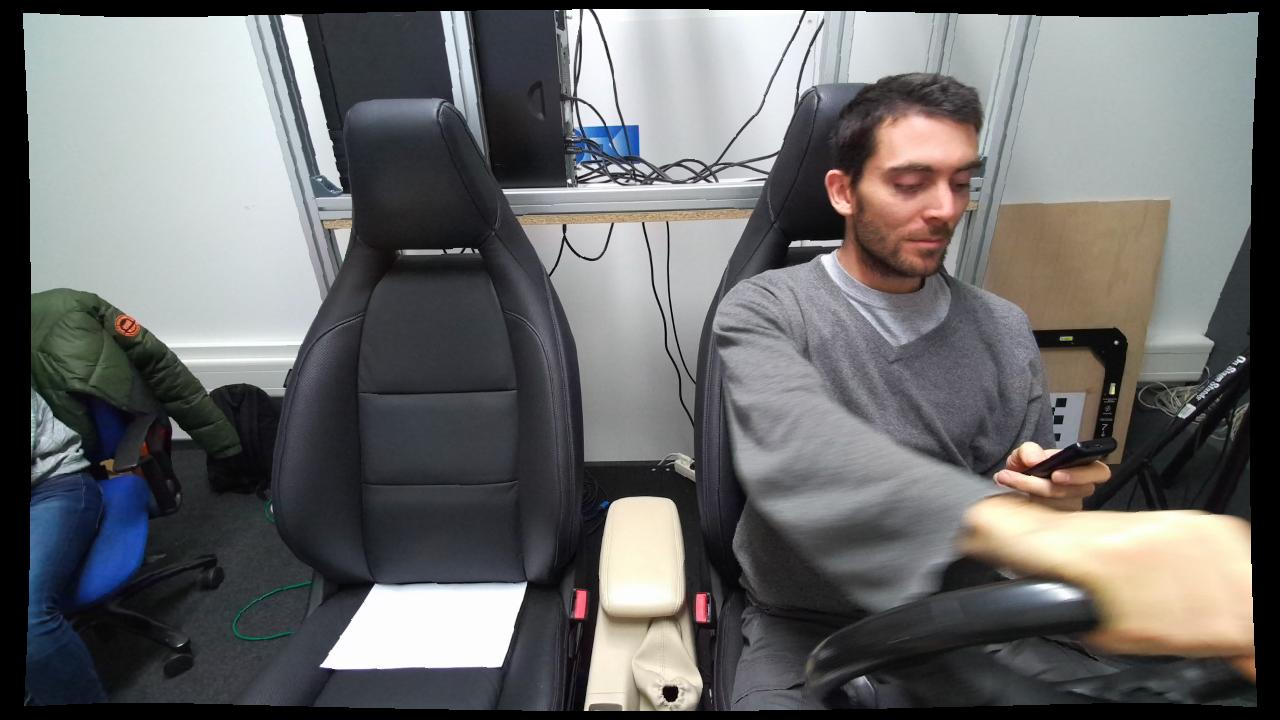PhoneUse: (980, 390, 1125, 523)
SafeDriving: (714, 70, 1145, 720)
